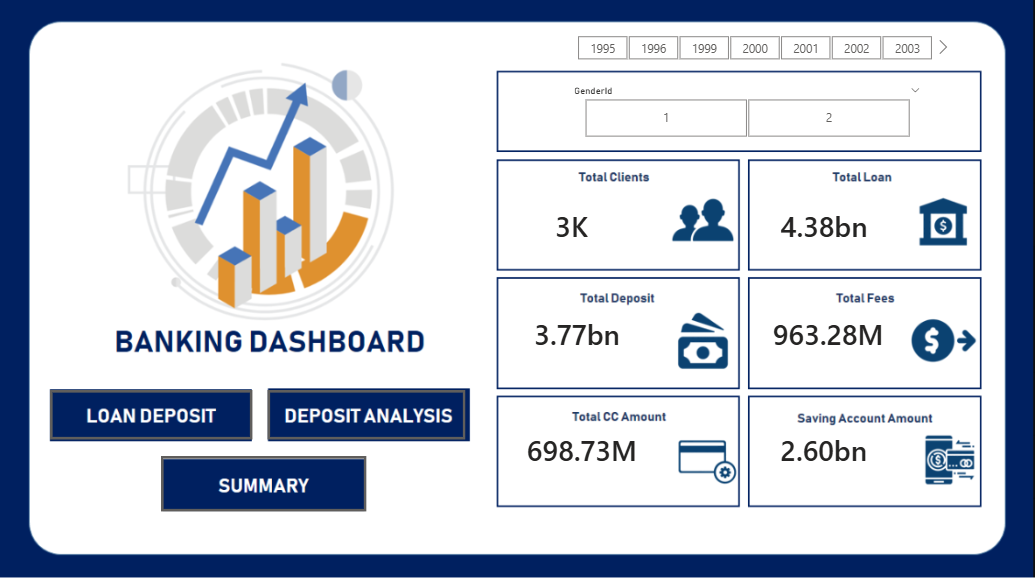

The page's visual inventory and layout, read from the dashboard file:
{"tool":"powerbi","page":{"name":"home2","canvas":[1280,720],"ordinal":1},"visuals":[{"type":"cardVisual","fields":{"Data":["banking_case customer.Total Loan"]},"box":[962,284.8,167.3,75.7],"z":0},{"type":"cardVisual","fields":{"Data":["banking_case customer.Total Deposit"]},"box":[609.5,426.2,167.3,75.7],"z":1000},{"type":"cardVisual","fields":{"Data":["Sum(banking_case customer.Checking Accounts)"]},"box":[962,426.2,191.2,75.7],"z":2000},{"type":"cardVisual","fields":{"Data":["Sum(banking_case customer.Saving Accounts)"]},"box":[606.6,561.3,190.9,75.6],"z":3000},{"type":"cardVisual","fields":{"Data":["Sum(banking_case customer.Business Lending)"]},"box":[960,561.3,183.3,75.6],"z":4000},{"type":"cardVisual","fields":{"Data":["CountNonNull(banking_case customer.Name)"]},"box":[615.4,284.8,183.2,75.7],"z":5000},{"type":"slicer","fields":{"Values":["banking_case customer.GenderId"]},"box":[661.3,163.3,529.8,67.7],"z":6000},{"type":"actionButton","box":[1113.4,408.3,167.3,55.8],"z":7000},{"type":"actionButton","box":[129.5,408.3,163.3,55.8],"z":8000},{"type":"slicer","fields":{"Values":["banking_case customer.Year of Joining"]},"box":[707.1,101.6,454.1,33.9],"z":9000}]}

Visuals, with their boxes in screenshot pixels (x1, y1, x2, y2), scaled from the page's 1280x720 canvas onto the 1035x579 screenshot:
cardVisual - banking_case customer.Total Loan: box(778, 229, 913, 290)
cardVisual - banking_case customer.Total Deposit: box(493, 343, 628, 404)
cardVisual - Sum(banking_case customer.Checking Accounts): box(778, 343, 932, 404)
cardVisual - Sum(banking_case customer.Saving Accounts): box(490, 451, 645, 512)
cardVisual - Sum(banking_case customer.Business Lending): box(776, 451, 924, 512)
cardVisual - CountNonNull(banking_case customer.Name): box(498, 229, 646, 290)
slicer - banking_case customer.GenderId: box(535, 131, 963, 186)
actionButton: box(900, 328, 1034, 373)
actionButton: box(105, 328, 237, 373)
slicer - banking_case customer.Year of Joining: box(572, 82, 939, 109)
